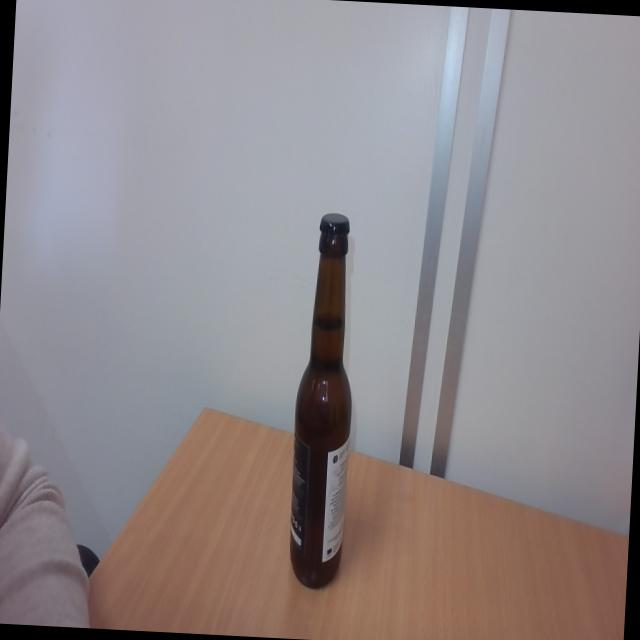Bottle: (286, 241, 362, 590)
Cap: (316, 210, 352, 242)
Label: (286, 436, 351, 562)
